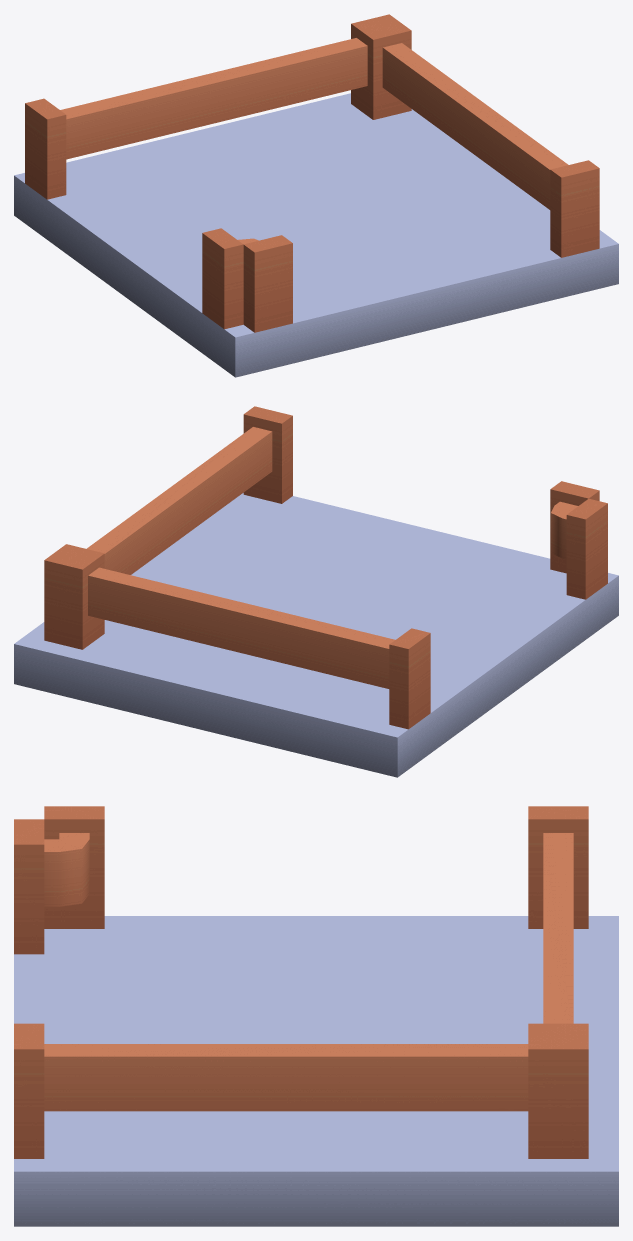
Rendered from path-corner.glb.
3 views of the same model, one above another, from view 1: azimuth 30°, elevation 25°; view 2: azimuth 150°, elevation 25°; view 3: azimuth 270°, elevation 25° (orthographic). The views are drawn at different scales.
Visible parts, largest first — view 1: path-corner; view 2: path-corner; view 3: path-corner.
Part boxes in pixels (left/top/right/bottom): path-corner: left=14, top=14, right=618, bottom=377; path-corner: left=14, top=406, right=618, bottom=777; path-corner: left=14, top=806, right=618, bottom=1226.
Bounding box in the file's own units: 1 × 0.3 × 1.
1 material, 1 textured.
